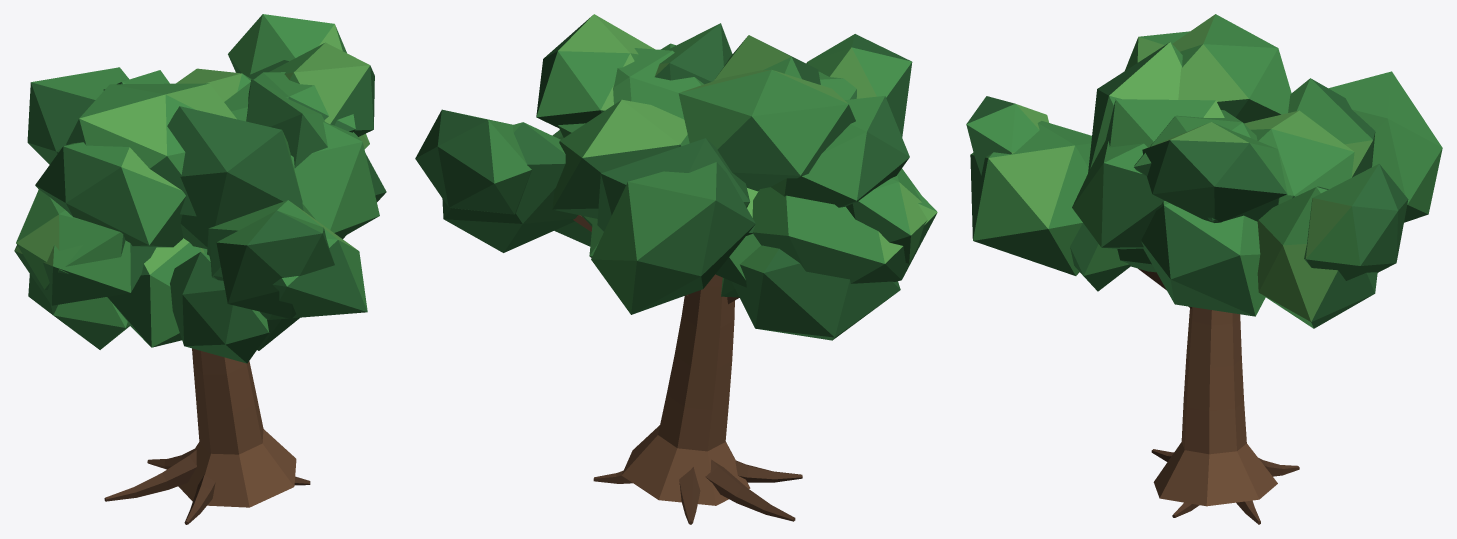
Rendered from tree_broadleaf_02.glb.
3 views of the same model, side by side, from view 1: azimuth 30°, elevation 25°; view 2: azimuth 150°, elevation 25°; view 3: azimuth 270°, elevation 25° (orthographic). The views are drawn at different scales.
Visible parts, largest first — view 1: tree_broadleaf_02; view 2: tree_broadleaf_02; view 3: tree_broadleaf_02.
Part boxes in pixels (<box>): tree_broadleaf_02: <box>14,14,386,524</box>; tree_broadleaf_02: <box>415,14,937,524</box>; tree_broadleaf_02: <box>966,14,1442,524</box>.
Bounding box in the file's own units: 4.41 × 4.29 × 4.47.
